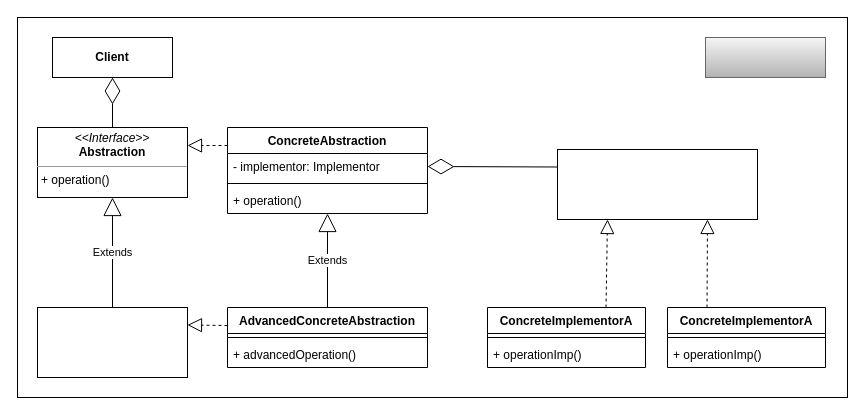
The diagram is 865 pixels wide and 415 high, and some of its shapes have lost their labels. Here are the shapes that lost their labels. From the top down, the box of each, then its label:
(704, 36, 826, 78): Bridge
(556, 148, 758, 220): <<Interface>> Implementor + operationImp()
(36, 306, 188, 378): <<Interface>> RefinedAbstraction + advancedOperation()
